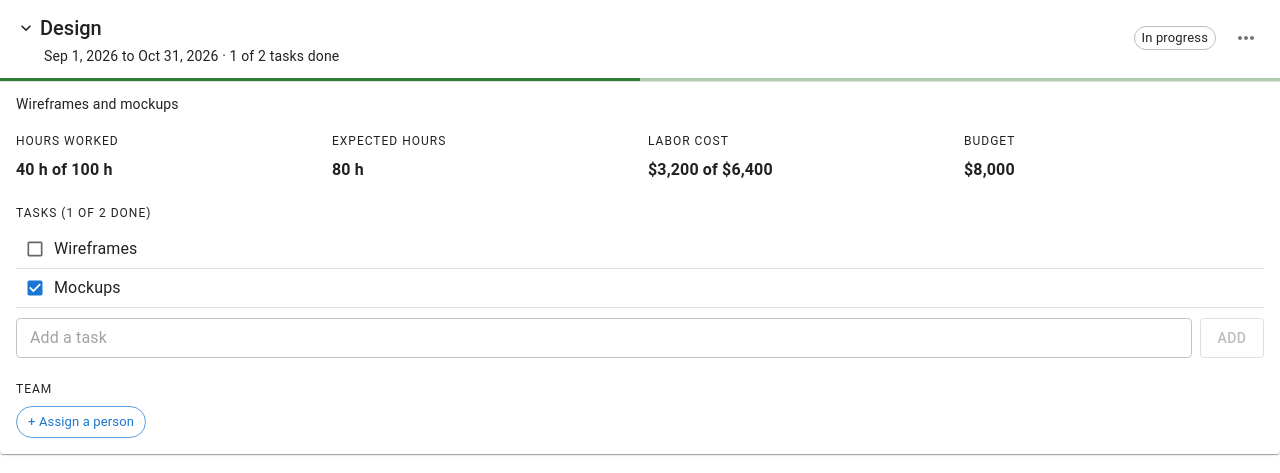
Test: MilestoneCard: the actions menu › does not offer "Mark as started" once the milestone is in progress
The width and height of the screenshot is (1280, 473).
Step 1. Click the button named "Milestone actions: Design" → {"x": 1246, "y": 38}, box [1224, 16, 1268, 60]
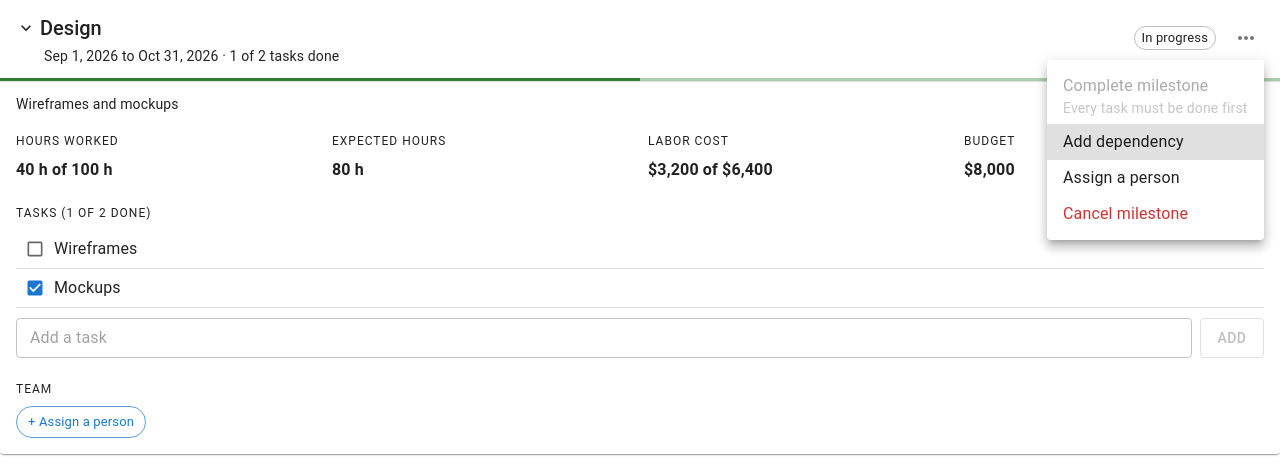
Result: the menu item "Cancel milestone" is shown at [1063, 204, 1188, 223]
